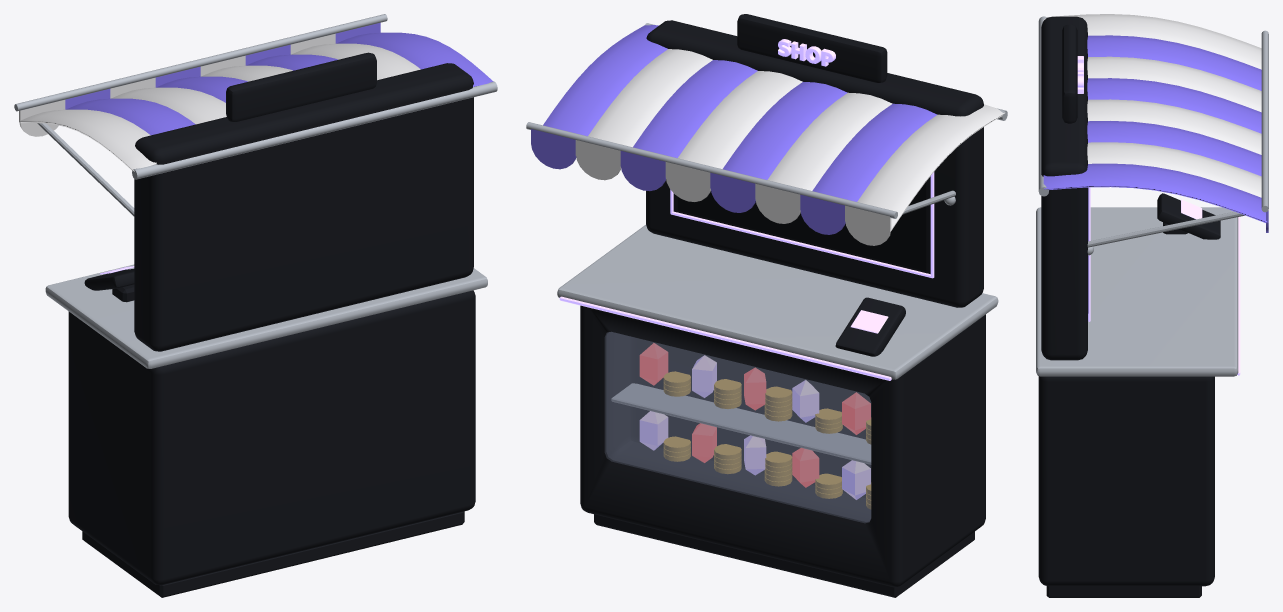
The model's file is ShopKiosk.glb.
The picture shows the model from 3 angles, left to right: view 1: azimuth 30°, elevation 25°; view 2: azimuth 150°, elevation 25°; view 3: azimuth 270°, elevation 25°; orthographic projection. The views are drawn at different scales.
Parts seen in each view (by area): view 1: Body__SmoothPlastic__16181E, Alu__Metal__B8BEC8, AwningWhite__Fabric__F2F2F5, AwningPurple__Fabric__8B7CFF; view 2: Body__SmoothPlastic__16181E, Alu__Metal__B8BEC8, Glass__Glass__C9D6FF, AwningWhite__Fabric__F2F2F5, AwningPurple__Fabric__8B7CFF, Glow__Neon__8B7CFF, Coins__Foil__E8B84A, Screen__SmoothPlastic__0B0C10, GemsRed__Neon__E53E3E; view 3: Body__SmoothPlastic__16181E, Alu__Metal__B8BEC8, AwningPurple__Fabric__8B7CFF, AwningWhite__Fabric__F2F2F5, Glow__Neon__8B7CFF.
Boxes of the visible parts, left/top/right/bottom form: Body__SmoothPlastic__16181E: left=68, top=52, right=475, bottom=597; Alu__Metal__B8BEC8: left=14, top=14, right=497, bottom=368; AwningWhite__Fabric__F2F2F5: left=19, top=33, right=420, bottom=171; AwningPurple__Fabric__8B7CFF: left=65, top=22, right=493, bottom=135; Body__SmoothPlastic__16181E: left=580, top=14, right=985, bottom=597; Alu__Metal__B8BEC8: left=526, top=23, right=1007, bottom=464; Glass__Glass__C9D6FF: left=605, top=332, right=871, bottom=522; AwningWhite__Fabric__F2F2F5: left=575, top=49, right=1005, bottom=245; AwningPurple__Fabric__8B7CFF: left=531, top=25, right=937, bottom=234; Glow__Neon__8B7CFF: left=559, top=39, right=934, bottom=499; Coins__Foil__E8B84A: left=663, top=371, right=871, bottom=509; Screen__SmoothPlastic__0B0C10: left=677, top=180, right=927, bottom=271; GemsRed__Neon__E53E3E: left=639, top=343, right=870, bottom=487; Body__SmoothPlastic__16181E: left=1038, top=16, right=1220, bottom=597; Alu__Metal__B8BEC8: left=1036, top=16, right=1268, bottom=376; AwningPurple__Fabric__8B7CFF: left=1043, top=35, right=1268, bottom=232; AwningWhite__Fabric__F2F2F5: left=1043, top=14, right=1261, bottom=197; Glow__Neon__8B7CFF: left=1077, top=56, right=1240, bottom=375.
Bounding box in the file's own units: 8 × 10 × 4.49.
